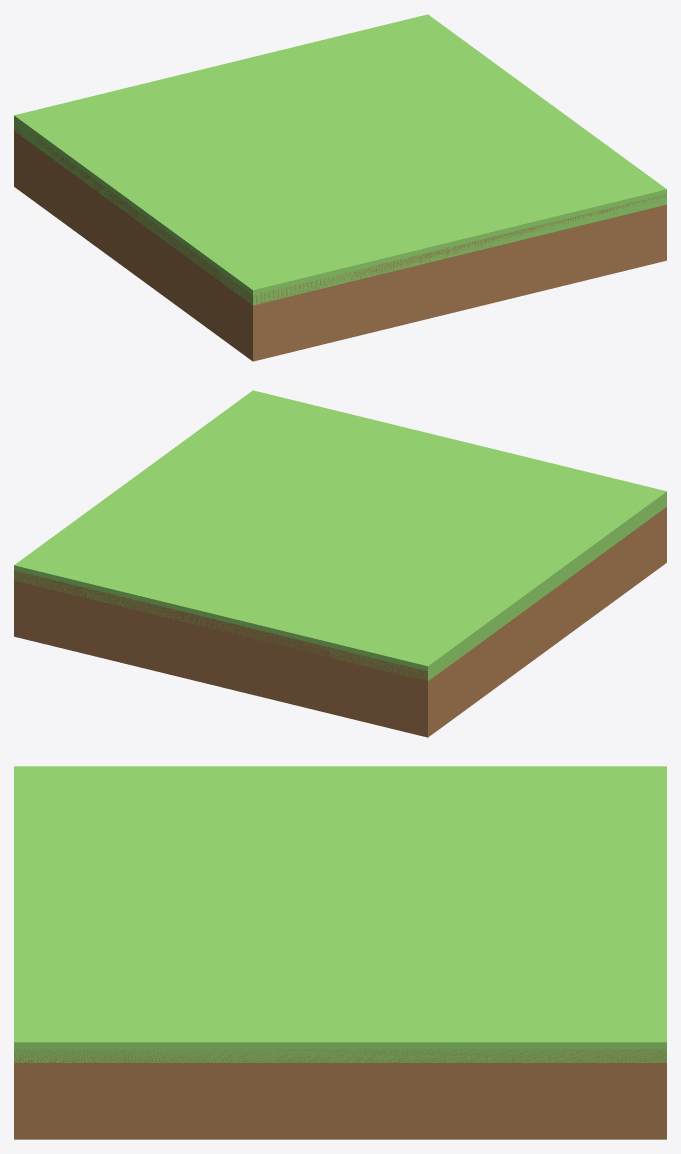
Rendered from DriftPlate.glb.
3 renders of one model, top to bottom at view 1: azimuth 30°, elevation 25°; view 2: azimuth 150°, elevation 25°; view 3: azimuth 270°, elevation 25°, orthographic. The views are drawn at different scales.
Visible parts, largest first — view 1: DriftPlate_cap, DriftPlate_slab; view 2: DriftPlate_cap, DriftPlate_slab; view 3: DriftPlate_cap, DriftPlate_slab.
Part boxes in pixels (x1=…): DriftPlate_cap: x1=14, y1=14, x2=666, y2=305; DriftPlate_slab: x1=14, y1=123, x2=666, y2=361; DriftPlate_cap: x1=14, y1=390, x2=666, y2=681; DriftPlate_slab: x1=14, y1=499, x2=666, y2=737; DriftPlate_cap: x1=14, y1=766, x2=666, y2=1062; DriftPlate_slab: x1=14, y1=1049, x2=666, y2=1139.
Size of the model in its own units: 1.7 by 0.28 by 1.7.
